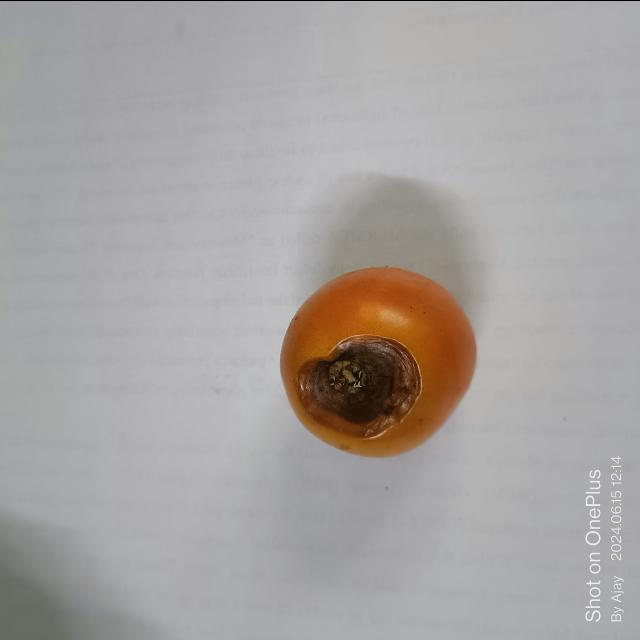Anthrocnose: (288, 336, 424, 438)
